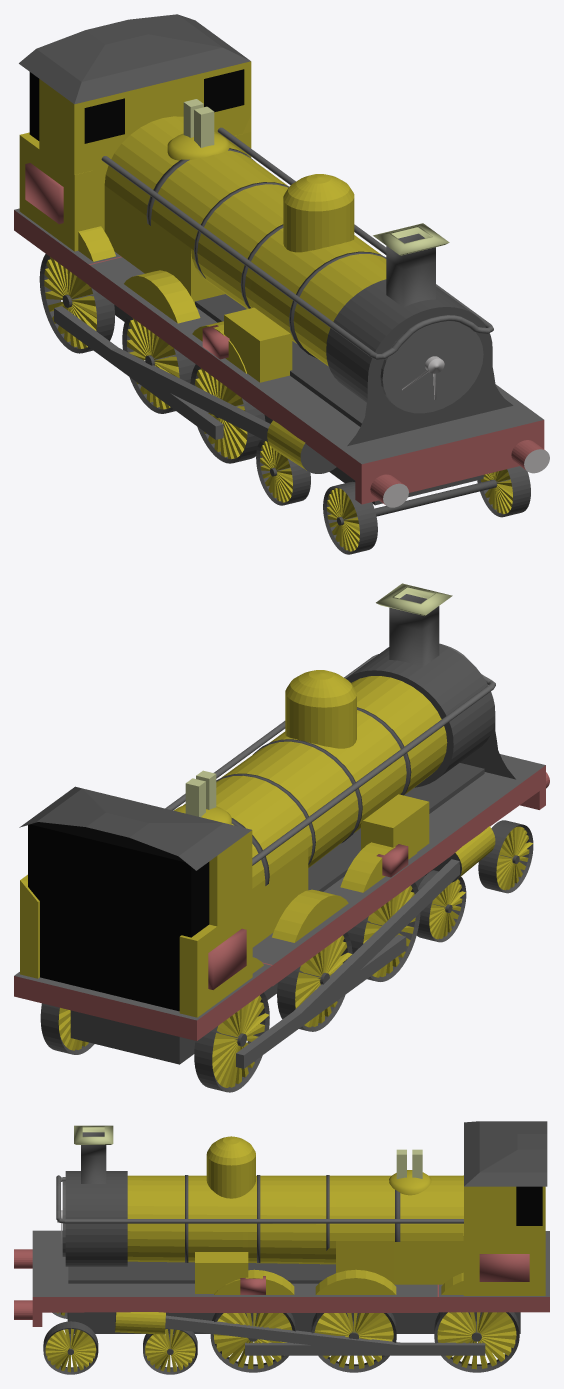
The model's file is hr-jones-goods.dae.
The picture shows the model from 3 angles, top to bottom: view 1: azimuth 30°, elevation 25°; view 2: azimuth 150°, elevation 25°; view 3: azimuth 270°, elevation 25°; orthographic projection. The views are drawn at different scales.
Parts seen in each view (by area): view 1: Cylinder_023, Cube_006, Cube_003, Cylinder_024, Cube_007, Cylinder_008, Cylinder_021, Cylinder_018, Cube_004, Cube_001, Cylinder_019, Cylinder_017 (+14 smaller); view 2: Cube_014, Cylinder_023, Cube_003, Cube_006, Cylinder_024, Cube_004, Cylinder_019, Cylinder_021, Cube_001, Cylinder_017, Cube_010, Cylinder_016 (+11 smaller); view 3: Cylinder_023, Cube_003, Cube_006, Cube_004, Cylinder_024, Cylinder_019, Cube_010, Cylinder_017, Cylinder_016, Cylinder_015, Cylinder_021, Cube_009 (+12 smaller).
Part boxes in pixels (bbox=[...]): Cylinder_023: bbox=[104, 116, 386, 366]; Cube_006: bbox=[19, 14, 251, 251]; Cube_003: bbox=[14, 208, 549, 507]; Cylinder_024: bbox=[326, 279, 513, 446]; Cube_007: bbox=[380, 321, 483, 413]; Cylinder_008: bbox=[323, 466, 530, 554]; Cylinder_021: bbox=[283, 174, 354, 252]; Cylinder_018: bbox=[101, 127, 493, 359]; Cube_004: bbox=[114, 294, 483, 505]; Cube_001: bbox=[373, 223, 449, 307]; Cylinder_019: bbox=[39, 254, 114, 353]; Cylinder_017: bbox=[78, 226, 246, 373]; Cube_014: bbox=[28, 822, 209, 1011]; Cylinder_023: bbox=[183, 676, 447, 947]; Cube_003: bbox=[14, 754, 549, 1040]; Cube_006: bbox=[19, 786, 252, 1017]; Cylinder_024: bbox=[346, 644, 515, 787]; Cube_004: bbox=[70, 763, 484, 1064]; Cylinder_019: bbox=[40, 992, 269, 1092]; Cylinder_021: bbox=[285, 670, 356, 748]; Cube_001: bbox=[376, 583, 452, 667]; Cylinder_017: bbox=[252, 842, 416, 973]; Cube_010: bbox=[293, 859, 459, 1013]; Cylinder_016: bbox=[277, 932, 352, 1031]; Cylinder_023: bbox=[127, 1175, 463, 1284]; Cube_003: bbox=[14, 1230, 549, 1326]; Cube_006: bbox=[463, 1121, 547, 1295]; Cube_004: bbox=[68, 1261, 520, 1333]; Cylinder_024: bbox=[65, 1171, 127, 1266]; Cylinder_019: bbox=[434, 1312, 519, 1372]; Cube_010: bbox=[165, 1315, 400, 1355]; Cylinder_017: bbox=[214, 1269, 463, 1294]; Cylinder_016: bbox=[311, 1313, 396, 1372]; Cylinder_015: bbox=[210, 1313, 295, 1372]; Cylinder_021: bbox=[206, 1136, 255, 1198]; Cube_009: bbox=[245, 1342, 485, 1355].
Size of the model in its own units: 1.87 by 6.08 by 2.65.
